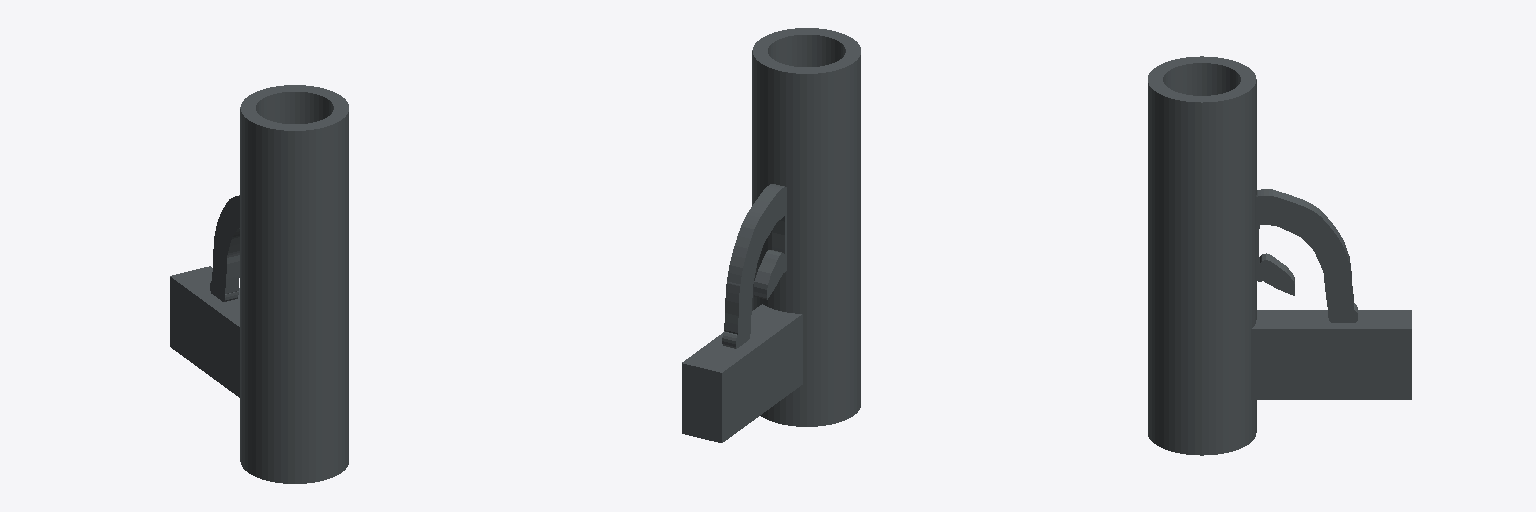
File: tinker.obj
3 views of the same model, side by side, from view 1: azimuth 30°, elevation 25°; view 2: azimuth 150°, elevation 25°; view 3: azimuth 270°, elevation 25° (orthographic).
Visible parts, largest first — view 1: obj_0; view 2: obj_0; view 3: obj_0.
Part boxes in pixels (x1,y1,x2,y2): obj_0: (170,85,348,483); obj_0: (682,28,860,442); obj_0: (1148,56,1411,455).
Bounding box in the file's own units: 7 × 25 × 17.